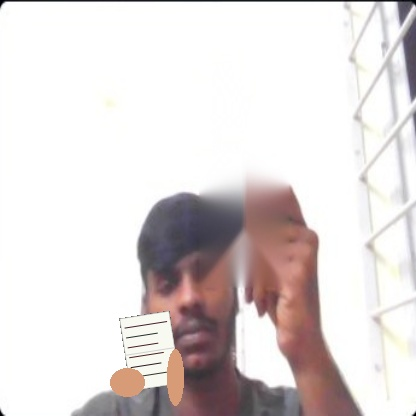cheat_chit: (119, 311, 180, 391)
